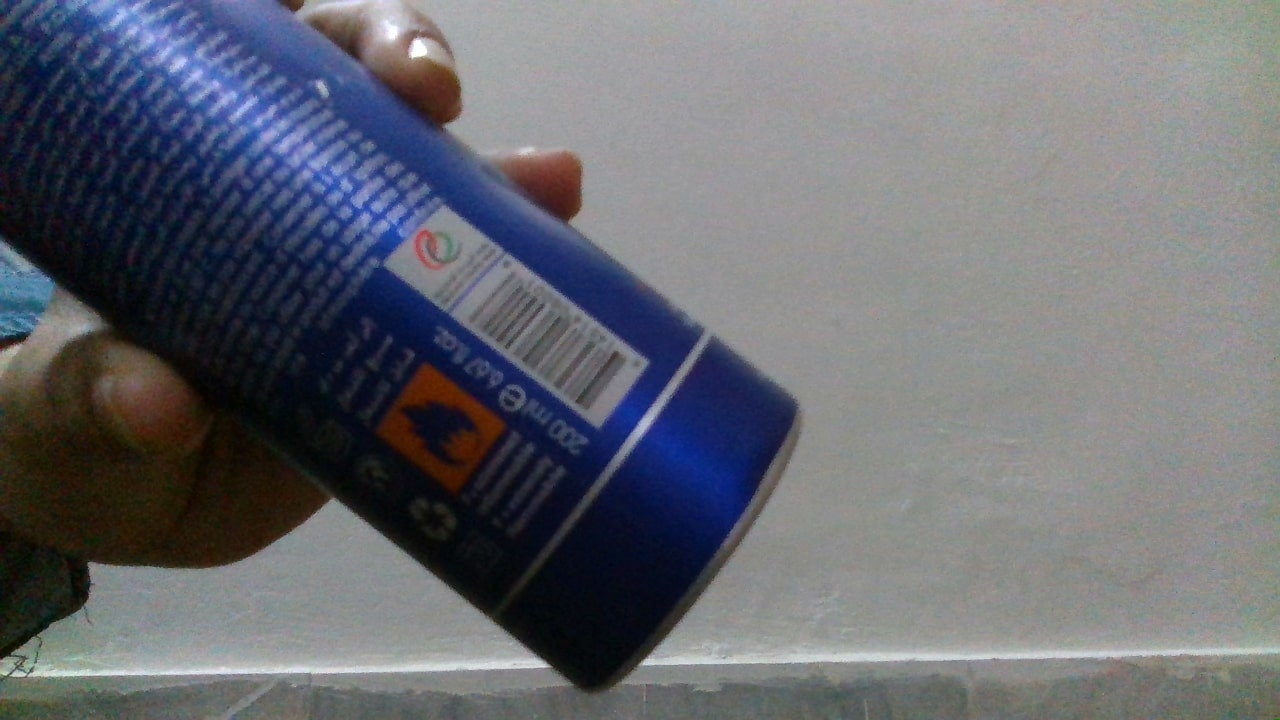Barcode: (466, 268, 633, 417)
